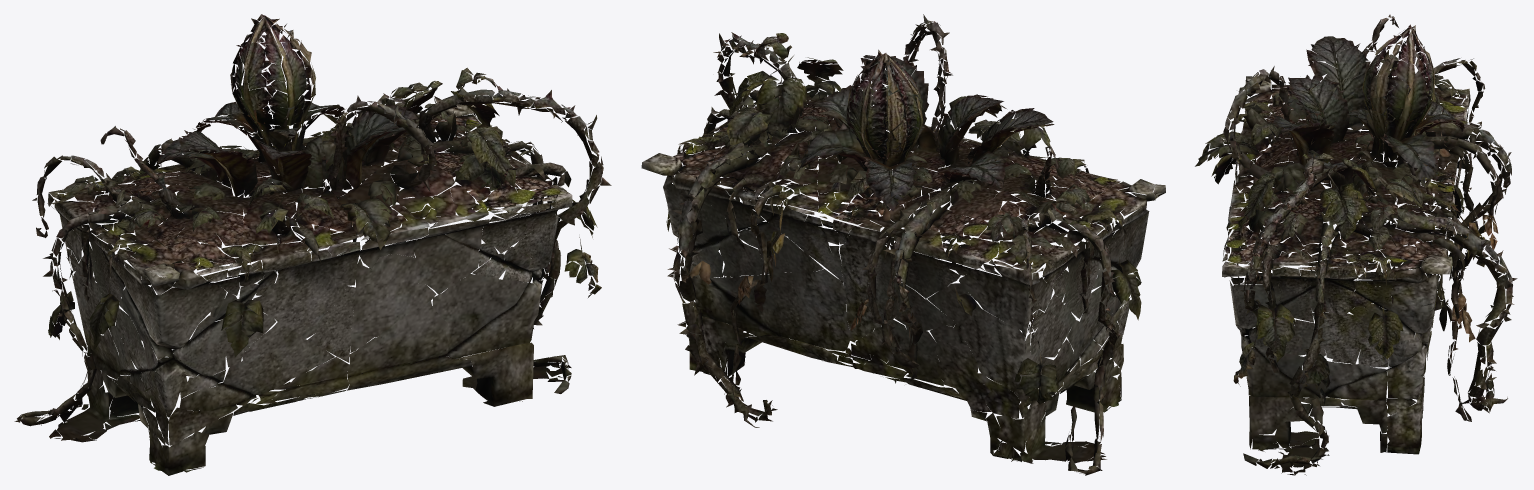
The model's file is p_planter.glb.
The picture shows the model from 3 angles, left to right: view 1: azimuth 30°, elevation 25°; view 2: azimuth 150°, elevation 25°; view 3: azimuth 270°, elevation 25°; orthographic projection. The views are drawn at different scales.
Parts seen in each view (by area): view 1: tripo_node_33b3cf24-487b-4e64-9190-ed6574cd9af0; view 2: tripo_node_33b3cf24-487b-4e64-9190-ed6574cd9af0; view 3: tripo_node_33b3cf24-487b-4e64-9190-ed6574cd9af0.
Boxes of the visible parts, box(x1,y1,x2,y2) form: tripo_node_33b3cf24-487b-4e64-9190-ed6574cd9af0: box(14, 14, 611, 475); tripo_node_33b3cf24-487b-4e64-9190-ed6574cd9af0: box(641, 14, 1165, 475); tripo_node_33b3cf24-487b-4e64-9190-ed6574cd9af0: box(1195, 14, 1517, 475).
Size of the model in its own units: 0.9756 by 0.6909 by 0.5952.
Materials: 1 (1 with a texture image).
